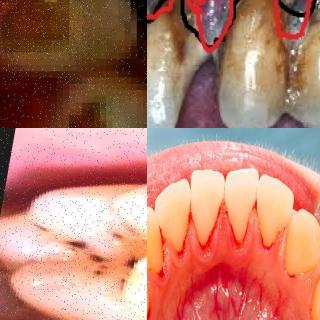Gum Swelling: (205, 203, 254, 261), (149, 241, 186, 287), (182, 219, 207, 267)
calculus: (227, 0, 296, 101), (149, 0, 215, 94), (298, 0, 319, 58)
cavities: (41, 185, 147, 290), (0, 0, 86, 70), (40, 91, 122, 128)
maligned: (220, 164, 254, 238), (192, 170, 222, 238)
stains: (228, 0, 292, 125), (153, 10, 189, 108), (305, 0, 320, 91)
